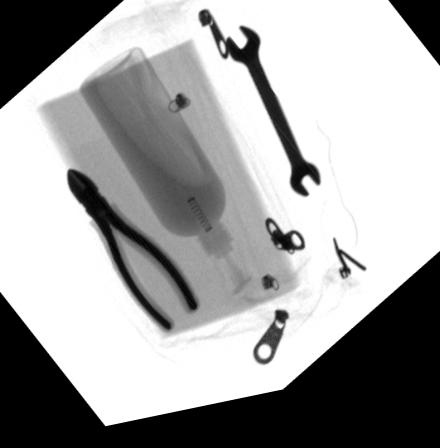Pliers: (64, 167, 199, 338)
Wrench: (224, 32, 322, 209)
